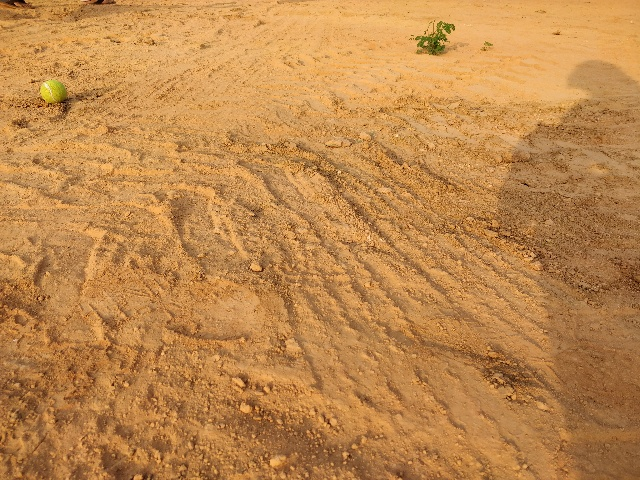ball: (34, 74, 73, 107)
